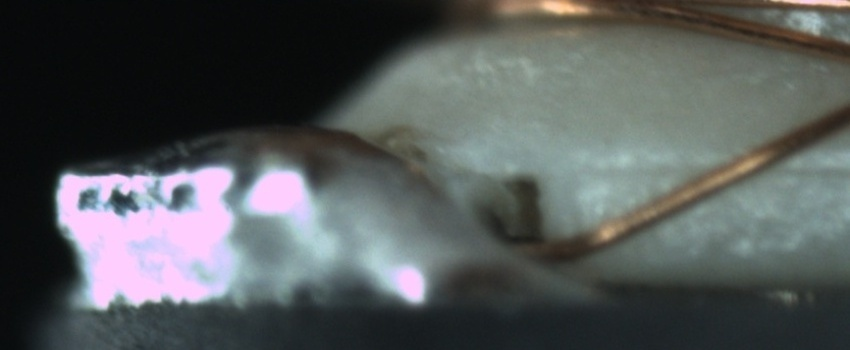DL: (602, 134, 849, 202)
